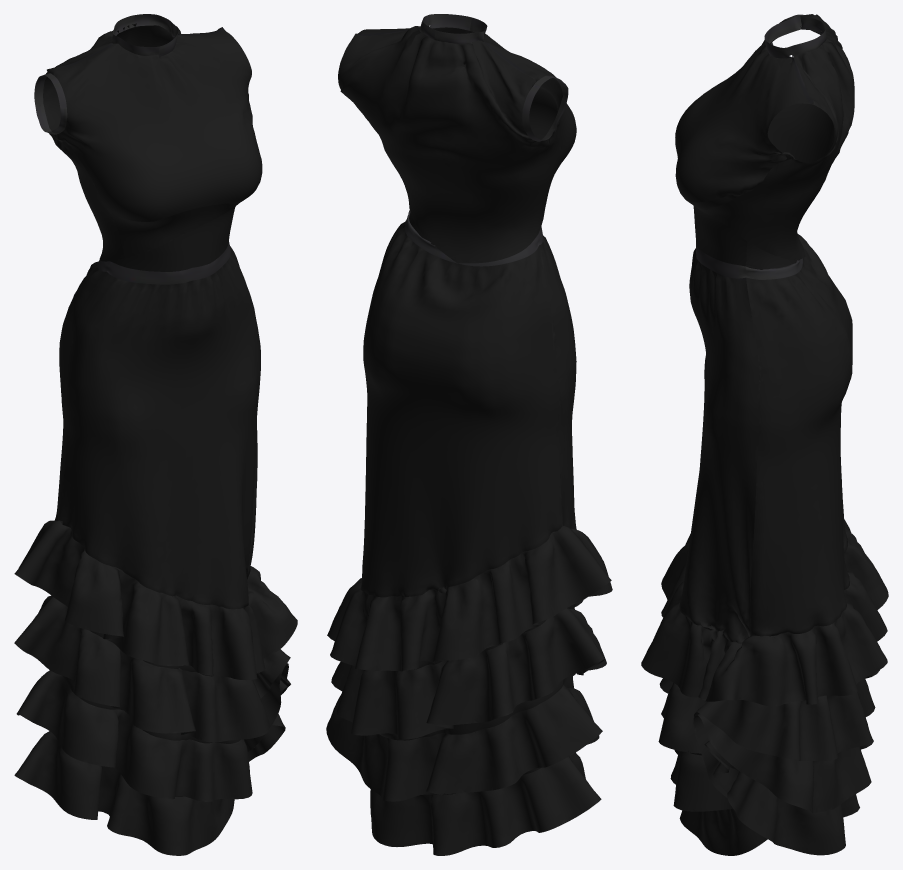
The model's file is G_clothe_without_sleeve.glb.
3 renders of one model, left to right at view 1: azimuth 30°, elevation 25°; view 2: azimuth 150°, elevation 25°; view 3: azimuth 270°, elevation 25°, orthographic. The views are drawn at different scales.
Visible parts, largest first — view 1: Garment; view 2: Garment; view 3: Garment.
Part boxes in pixels (x1=…): Garment: x1=14, y1=14, x2=297, y2=855; Garment: x1=326, y1=14, x2=612, y2=855; Garment: x1=641, y1=14, x2=888, y2=855.
Size of the model in its own units: 0.4859 by 1.41 by 0.3898.
1 material, 1 textured.
